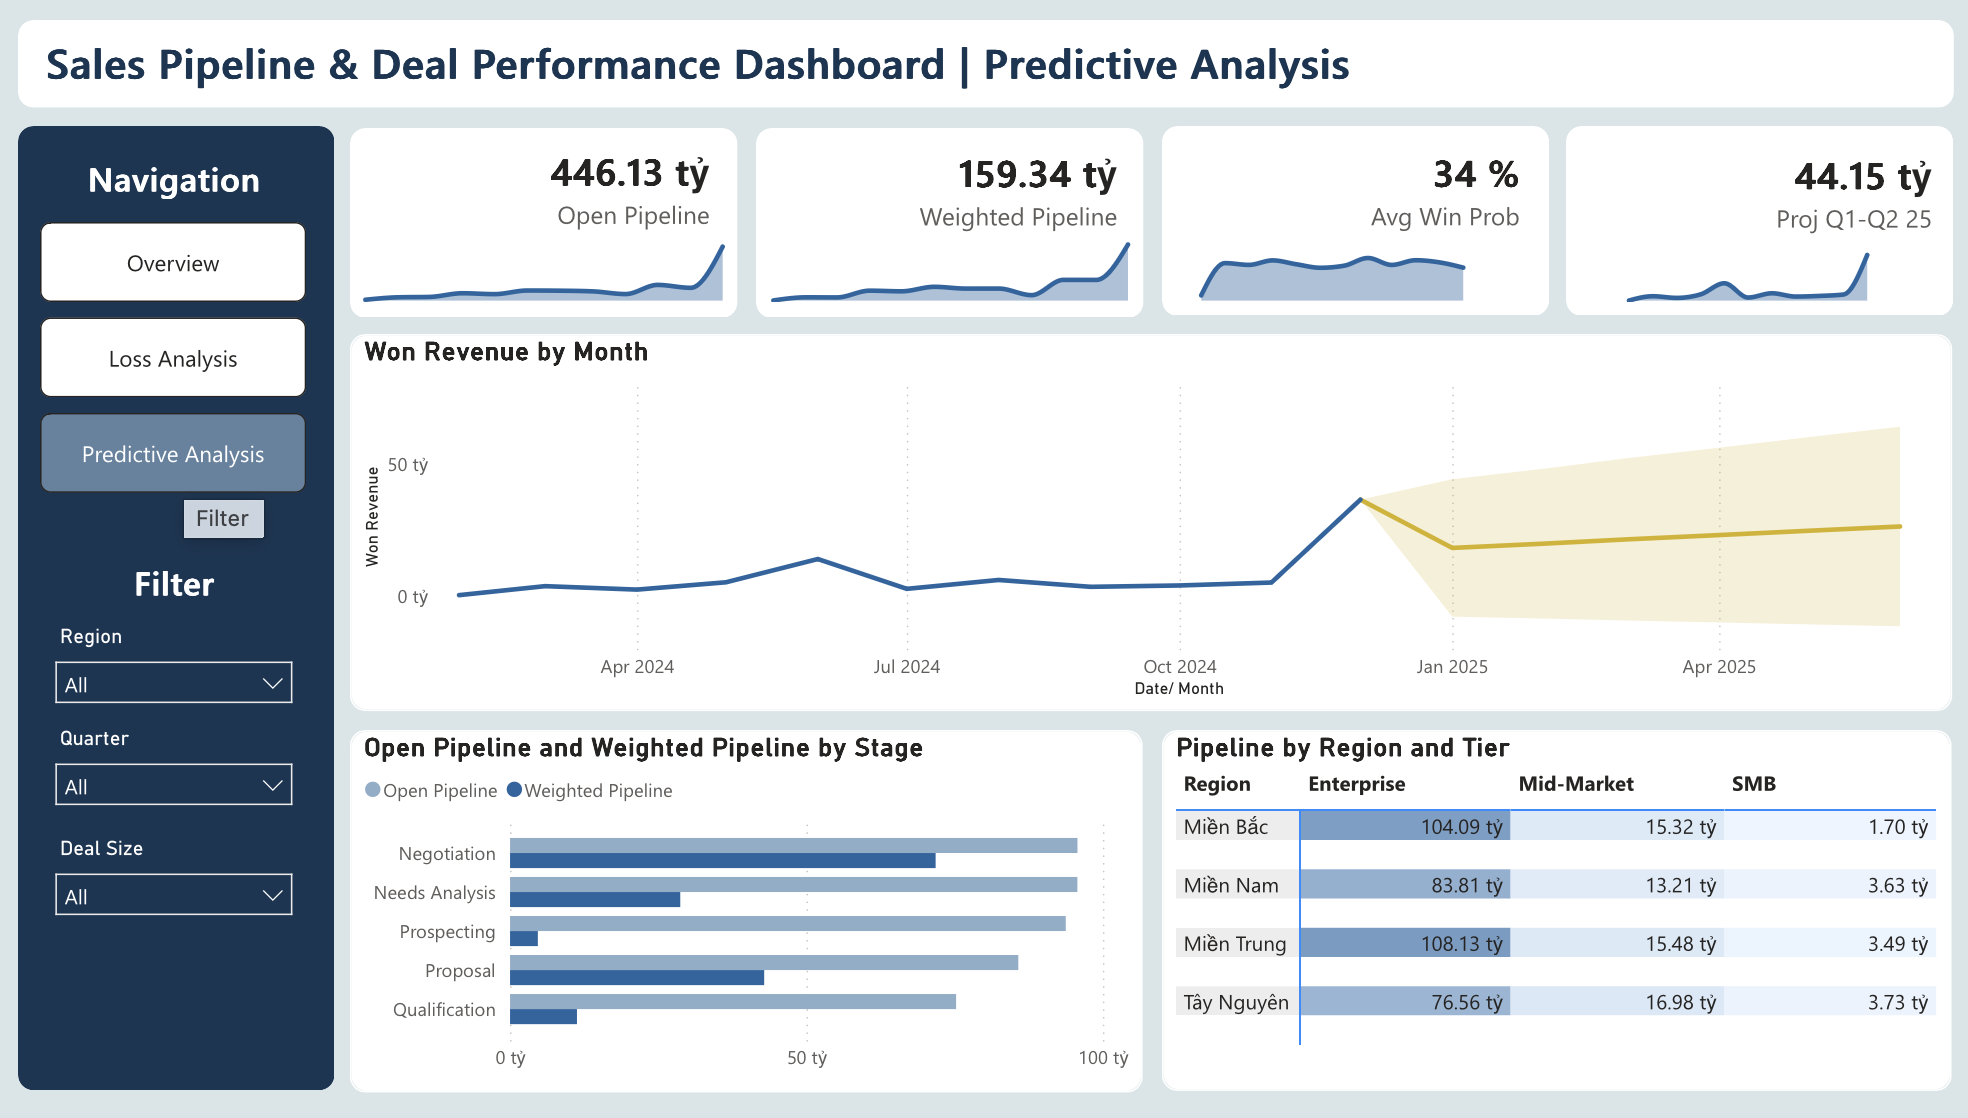

Layout of this report page (visuals, bound fields, positions):
{"tool":"powerbi","page":{"name":"Predictive Analysis","canvas":[1280,720],"ordinal":2},"visuals":[{"type":"shape","box":[11.1,82.3,205.7,626.6],"z":0},{"type":"shape","box":[11.1,12.7,1257.8,57],"z":1000},{"type":"textbox","title":"Sales Pipeline & Deal Performance Dashboard  |   Predictive Analysis","box":[24.7,21.6,1052.8,35.6],"z":2000},{"type":"shape","box":[227.4,82.8,251.8,123.5],"z":3000},{"type":"cardVisual","fields":{"Data":["Deals.Open Pipeline"]},"box":[325.7,71.8,164.6,101.6],"z":4000},{"type":"lineChart","fields":{"Category":["Date.MonthStart"],"Y":["Deals.Open Pipeline"]},"box":[227.6,145.3,252.1,50.8],"z":5000},{"type":"shape","box":[1017.4,82.3,251.6,123.4],"z":6000},{"type":"shape","box":[754.7,82.3,251.6,123.4],"z":7000},{"type":"shape","box":[490.6,82.8,251.8,123.5],"z":8000},{"type":"cardVisual","fields":{"Data":["Deals.Weighted Pipeline"]},"box":[551.6,71.8,204.9,103.3],"z":9000},{"type":"lineChart","fields":{"Category":["Date.MonthStart"],"Y":["Deals.Weighted Pipeline"]},"box":[492,145.3,250.4,50.8],"z":10000},{"type":"cardVisual","fields":{"Data":["Deals.Avg Win Prob"]},"box":[852.7,68.3,164.6,108.6],"z":11000},{"type":"lineChart","fields":{"Category":["Date.MonthNo"],"Y":["Deals.Avg Win Prob"]},"box":[754.7,145.3,252.1,50.8],"z":12000},{"type":"cardVisual","fields":{"Data":["Deals.Proj Q1-Q2 25"]},"box":[1034.9,75.3,245.1,98.1],"z":13000},{"type":"lineChart","title":"Won Revenue by Month","fields":{"Category":["Date.MonthStart"],"Y":["Deals.Won Revenue"]},"box":[227.8,216.8,1041.1,245.2],"z":14000},{"type":"pivotTable","title":"Pipeline by Region and Tier","fields":{"Columns":["Deals.Deal_Size_Tier"],"Rows":["Deals.Region"],"Values":["Deals.Pipeline Value"]},"box":[754.7,474.5,513.1,234.6],"z":15000},{"type":"clusteredBarChart","title":"Open Pipeline and Weighted Pipeline by Stage","fields":{"Category":["Deals.Pipeline_Stage"],"Y":["Deals.Open Pipeline","Deals.Weighted Pipeline"]},"box":[227.4,473.8,515.2,235.3],"z":16000},{"type":"textbox","title":"Navigation","box":[10.9,101,205,32.6],"z":17000},{"type":"pageNavigator","box":[26.4,144.5,174,178.6],"z":18000},{"type":"textbox","title":"Filter","box":[10.9,363.5,205,32.6],"z":19000},{"type":"slicer","fields":{"Values":["Deals.Quarter"]},"box":[26.4,469.1,174,60.6],"z":20000},{"type":"slicer","fields":{"Values":["Deals.Region"]},"box":[26.4,402.3,174,60.6],"z":21000},{"type":"slicer","fields":{"Values":["Deals.Deal_Size_Tier"]},"box":[26.4,540.6,174,60.6],"z":22000},{"type":"lineChart","fields":{"Category":["Date.MonthNo"],"Y":["Deals.Proj Q1-Q2 25"]},"box":[1017.3,145.3,252.1,50.8],"z":23000}]}

Visuals, with their boxes in screenshot pixels (x1, y1, x2, y2), scaled from the page's 1280x720 canvas onto the 1968x1118 screenshot:
shape: {"left": 17, "top": 128, "right": 333, "bottom": 1101}
shape: {"left": 17, "top": 20, "right": 1951, "bottom": 108}
"Sales Pipeline & Deal Performance Dashboard  |   Predictive Analysis" textbox: {"left": 38, "top": 34, "right": 1657, "bottom": 89}
shape: {"left": 350, "top": 129, "right": 737, "bottom": 320}
cardVisual - Deals.Open Pipeline: {"left": 501, "top": 111, "right": 754, "bottom": 269}
lineChart - Date.MonthStart x Deals.Open Pipeline: {"left": 350, "top": 226, "right": 738, "bottom": 304}
shape: {"left": 1564, "top": 128, "right": 1951, "bottom": 319}
shape: {"left": 1160, "top": 128, "right": 1547, "bottom": 319}
shape: {"left": 754, "top": 129, "right": 1141, "bottom": 320}
cardVisual - Deals.Weighted Pipeline: {"left": 848, "top": 111, "right": 1163, "bottom": 272}
lineChart - Date.MonthStart x Deals.Weighted Pipeline: {"left": 756, "top": 226, "right": 1141, "bottom": 304}
cardVisual - Deals.Avg Win Prob: {"left": 1311, "top": 106, "right": 1564, "bottom": 275}
lineChart - Date.MonthNo x Deals.Avg Win Prob: {"left": 1160, "top": 226, "right": 1548, "bottom": 304}
cardVisual - Deals.Proj Q1-Q2 25: {"left": 1591, "top": 117, "right": 1967, "bottom": 269}
"Won Revenue by Month" lineChart: {"left": 350, "top": 337, "right": 1951, "bottom": 717}
"Pipeline by Region and Tier" pivotTable: {"left": 1160, "top": 737, "right": 1949, "bottom": 1101}
"Open Pipeline and Weighted Pipeline by Stage" clusteredBarChart: {"left": 350, "top": 736, "right": 1142, "bottom": 1101}
"Navigation" textbox: {"left": 17, "top": 157, "right": 332, "bottom": 207}
pageNavigator: {"left": 41, "top": 224, "right": 308, "bottom": 502}
"Filter" textbox: {"left": 17, "top": 564, "right": 332, "bottom": 615}
slicer - Deals.Quarter: {"left": 41, "top": 728, "right": 308, "bottom": 823}
slicer - Deals.Region: {"left": 41, "top": 625, "right": 308, "bottom": 719}
slicer - Deals.Deal_Size_Tier: {"left": 41, "top": 839, "right": 308, "bottom": 934}
lineChart - Date.MonthNo x Deals.Proj Q1-Q2 25: {"left": 1564, "top": 226, "right": 1952, "bottom": 304}
